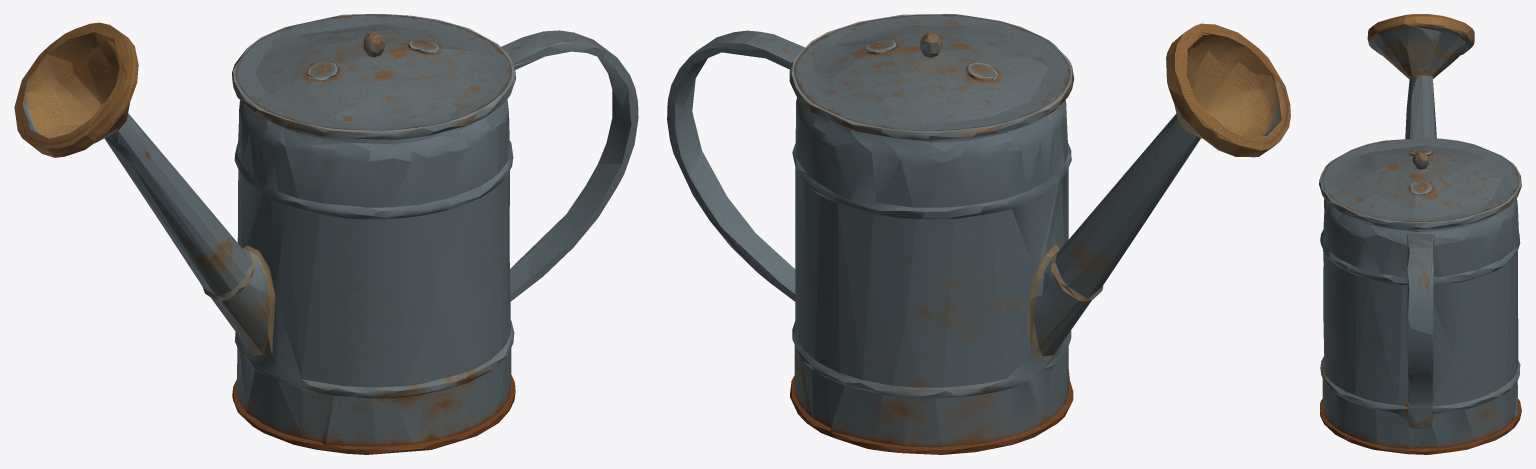
The model's file is watering_can.glb.
3 renders of one model, left to right at view 1: azimuth 30°, elevation 25°; view 2: azimuth 150°, elevation 25°; view 3: azimuth 270°, elevation 25°, orthographic. The views are drawn at different scales.
Parts seen in each view (by area): view 1: geometry_0; view 2: geometry_0; view 3: geometry_0.
Part boxes in pixels (bbox=[...]): geometry_0: bbox=[14, 14, 638, 454]; geometry_0: bbox=[667, 14, 1290, 454]; geometry_0: bbox=[1319, 14, 1521, 454].
Size of the model in its own units: 0.6597 by 0.45 by 0.2689.
Materials: 1 (1 with a texture image).
